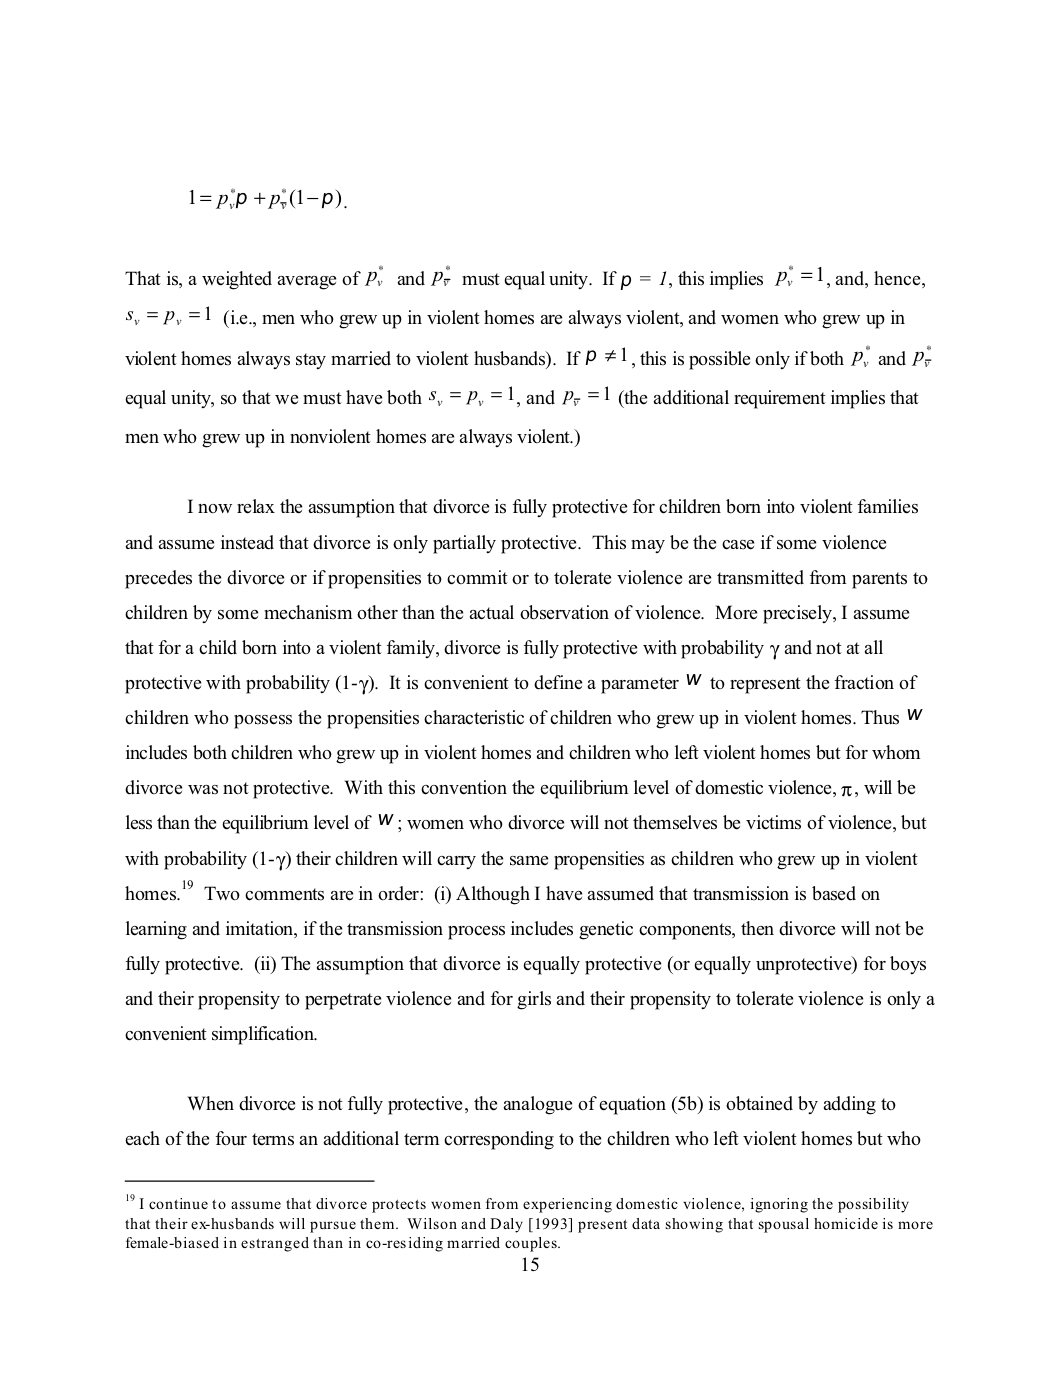figure: (124, 1179, 374, 1182)
formula: (189, 187, 345, 210)
